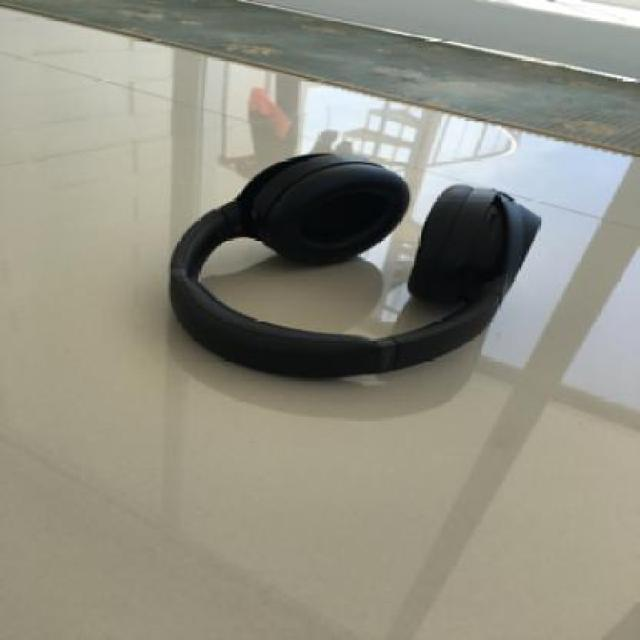earphone: (202, 105, 562, 473)
